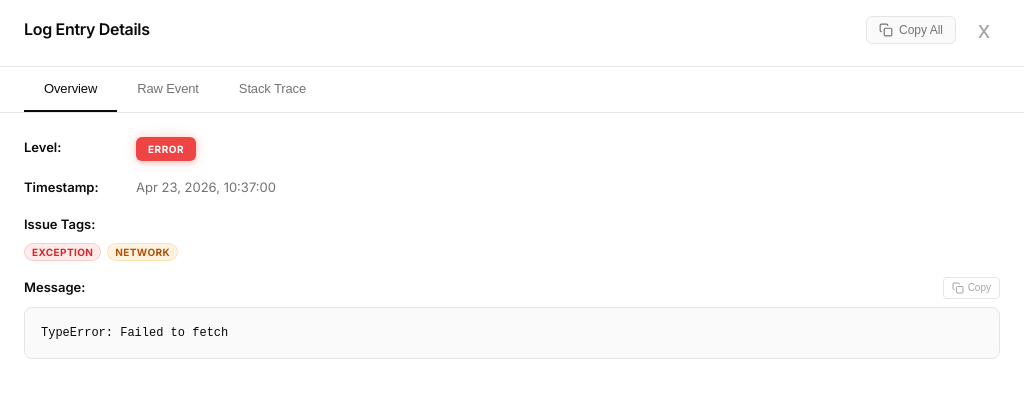
Test: ConsoleLogDetails › shows a raw event tab for the full captured console block
The width and height of the screenshot is (1024, 414).
Click the tab "Raw Event" at (168, 90), box [117, 67, 219, 112]
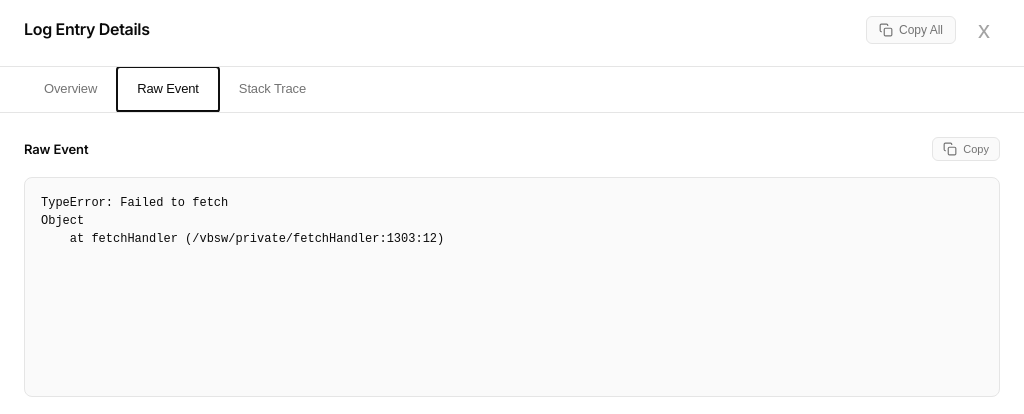
Expected: the text "TypeError: Failed to fetch" shows "Object", [41, 196, 444, 246]
Expected: the text "TypeError: Failed to fetch" shows "fetchHandler", [41, 196, 444, 246]
